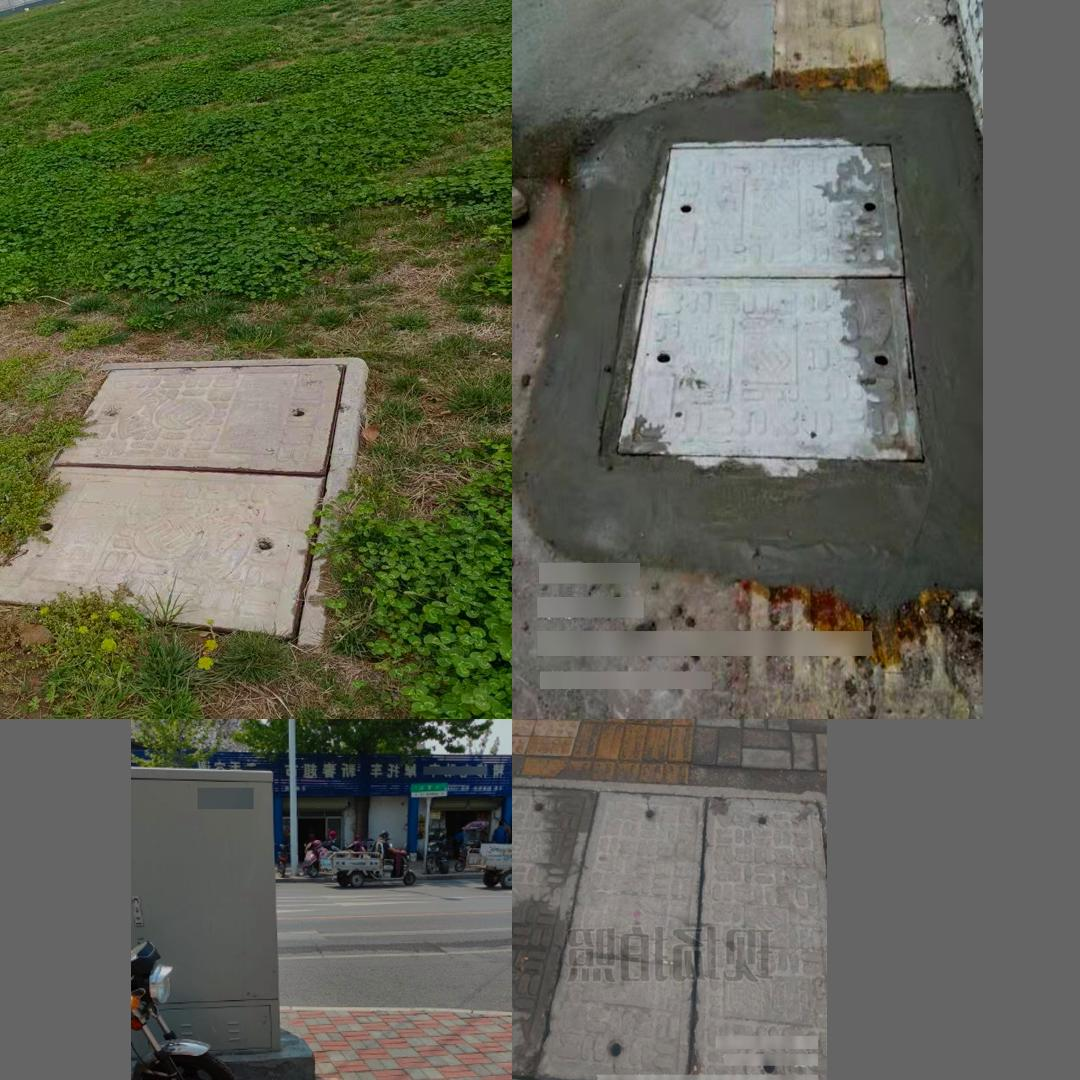good: (599, 137, 929, 472), (0, 357, 371, 649), (513, 778, 824, 1080)
